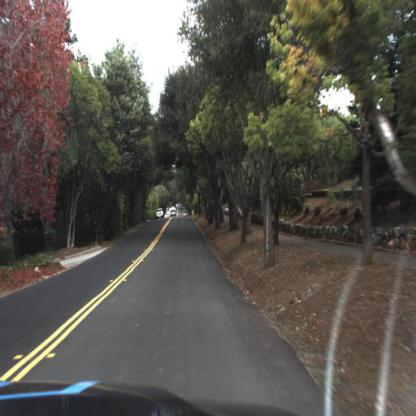car: (152, 203, 167, 221), (153, 204, 163, 221), (168, 206, 178, 222)
